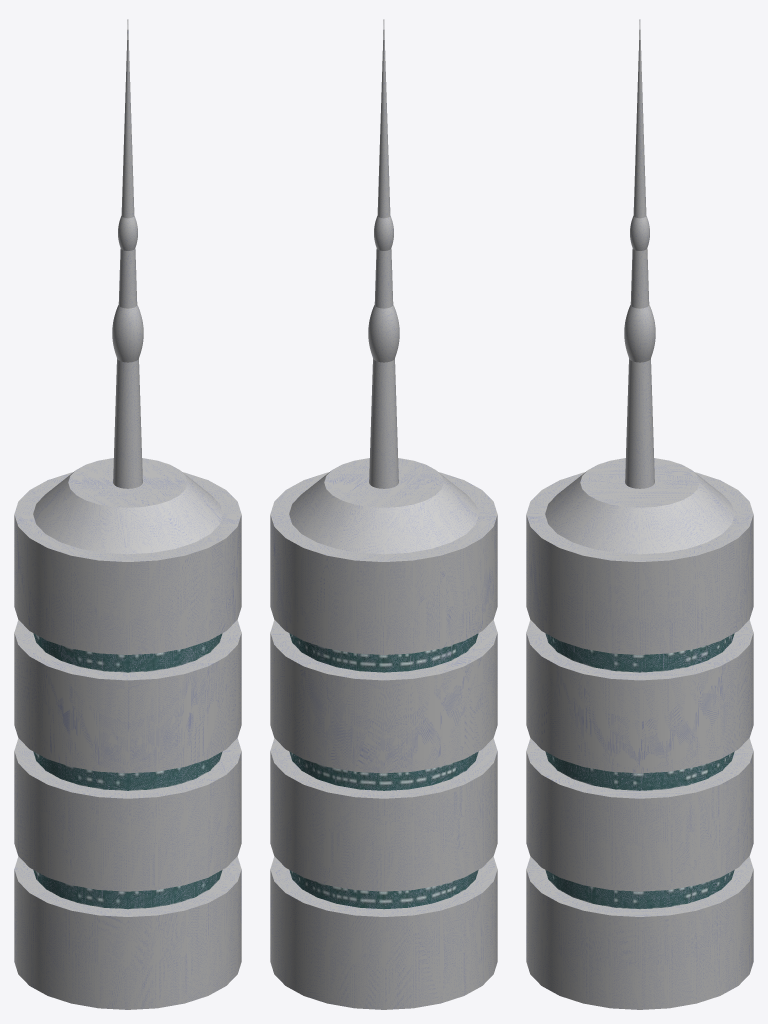
The model's file is building1.dae.
3 renders of one model, left to right at view 1: azimuth 30°, elevation 25°; view 2: azimuth 150°, elevation 25°; view 3: azimuth 270°, elevation 25°, orthographic.
Parts seen in each view (by area): view 1: Component_1 (×6), Component_2 (×3); view 2: Component_1 (×6), Component_2 (×3); view 3: Component_1 (×6), Component_2 (×3).
Part boxes in pixels (x1,y1,x2,y2): Component_1 (×6): (14,620,241,1009); Component_2 (×3): (14,19,241,654); Component_1 (×6): (270,620,497,1009); Component_2 (×3): (270,19,497,654); Component_1 (×6): (526,620,753,1009); Component_2 (×3): (526,19,753,654).
Bounding box in the file's own units: 146 × 146 × 671.
